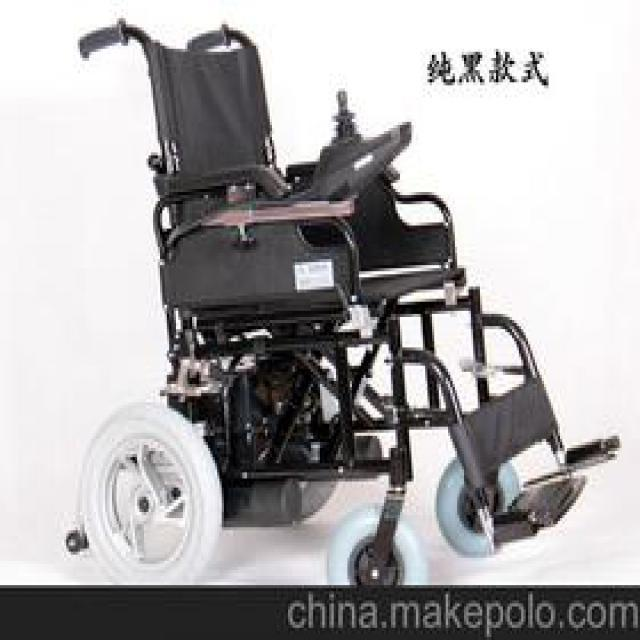wheelchair: (60, 0, 618, 585)
